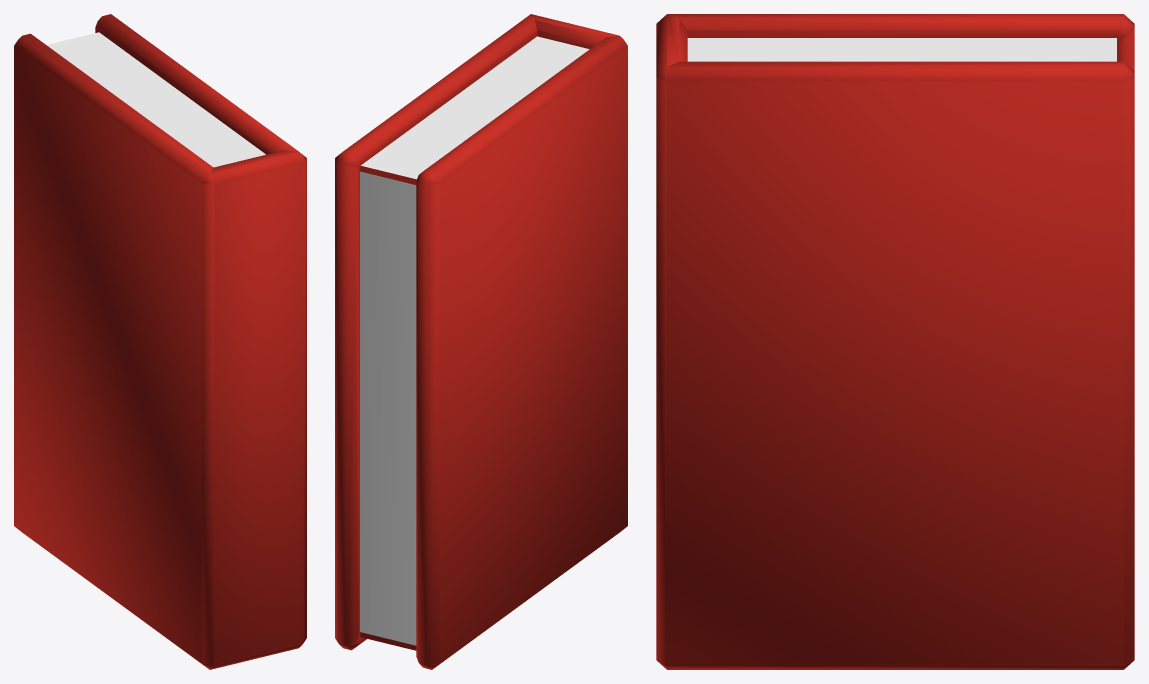
File: Book1.fbx
3 renders of one model, left to right at view 1: azimuth 30°, elevation 25°; view 2: azimuth 150°, elevation 25°; view 3: azimuth 270°, elevation 25°, orthographic. The views are drawn at different scales.
Parts seen in each view (by area): view 1: Book1; view 2: Book1; view 3: Book1.
Part boxes in pixels (<box>): Book1: <box>14,14,306,669</box>; Book1: <box>335,14,627,669</box>; Book1: <box>656,14,1134,669</box>.
Bounding box in the file's own units: 0.0982 × 0.3201 × 0.4451.
